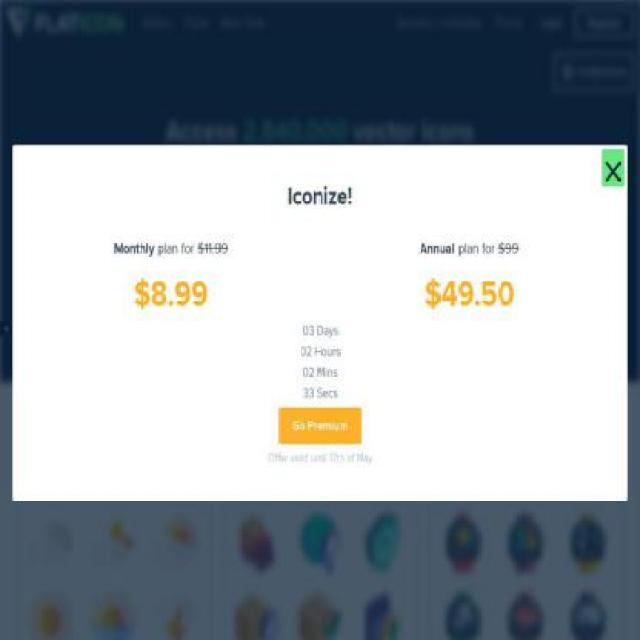button: (16, 503, 212, 640), (222, 503, 418, 640), (429, 503, 625, 640), (6, 7, 123, 38), (62, 196, 120, 250), (552, 53, 634, 90), (575, 8, 634, 37), (350, 311, 398, 332), (404, 311, 451, 332), (262, 311, 308, 332), (221, 311, 256, 332), (182, 311, 216, 332), (312, 311, 345, 332), (541, 13, 562, 32)
field: (119, 196, 538, 250)
